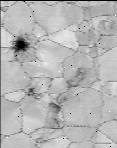good_void: (66, 65, 89, 90), (8, 35, 31, 56), (24, 84, 43, 104), (96, 16, 117, 32), (45, 114, 64, 127), (46, 98, 63, 111)
